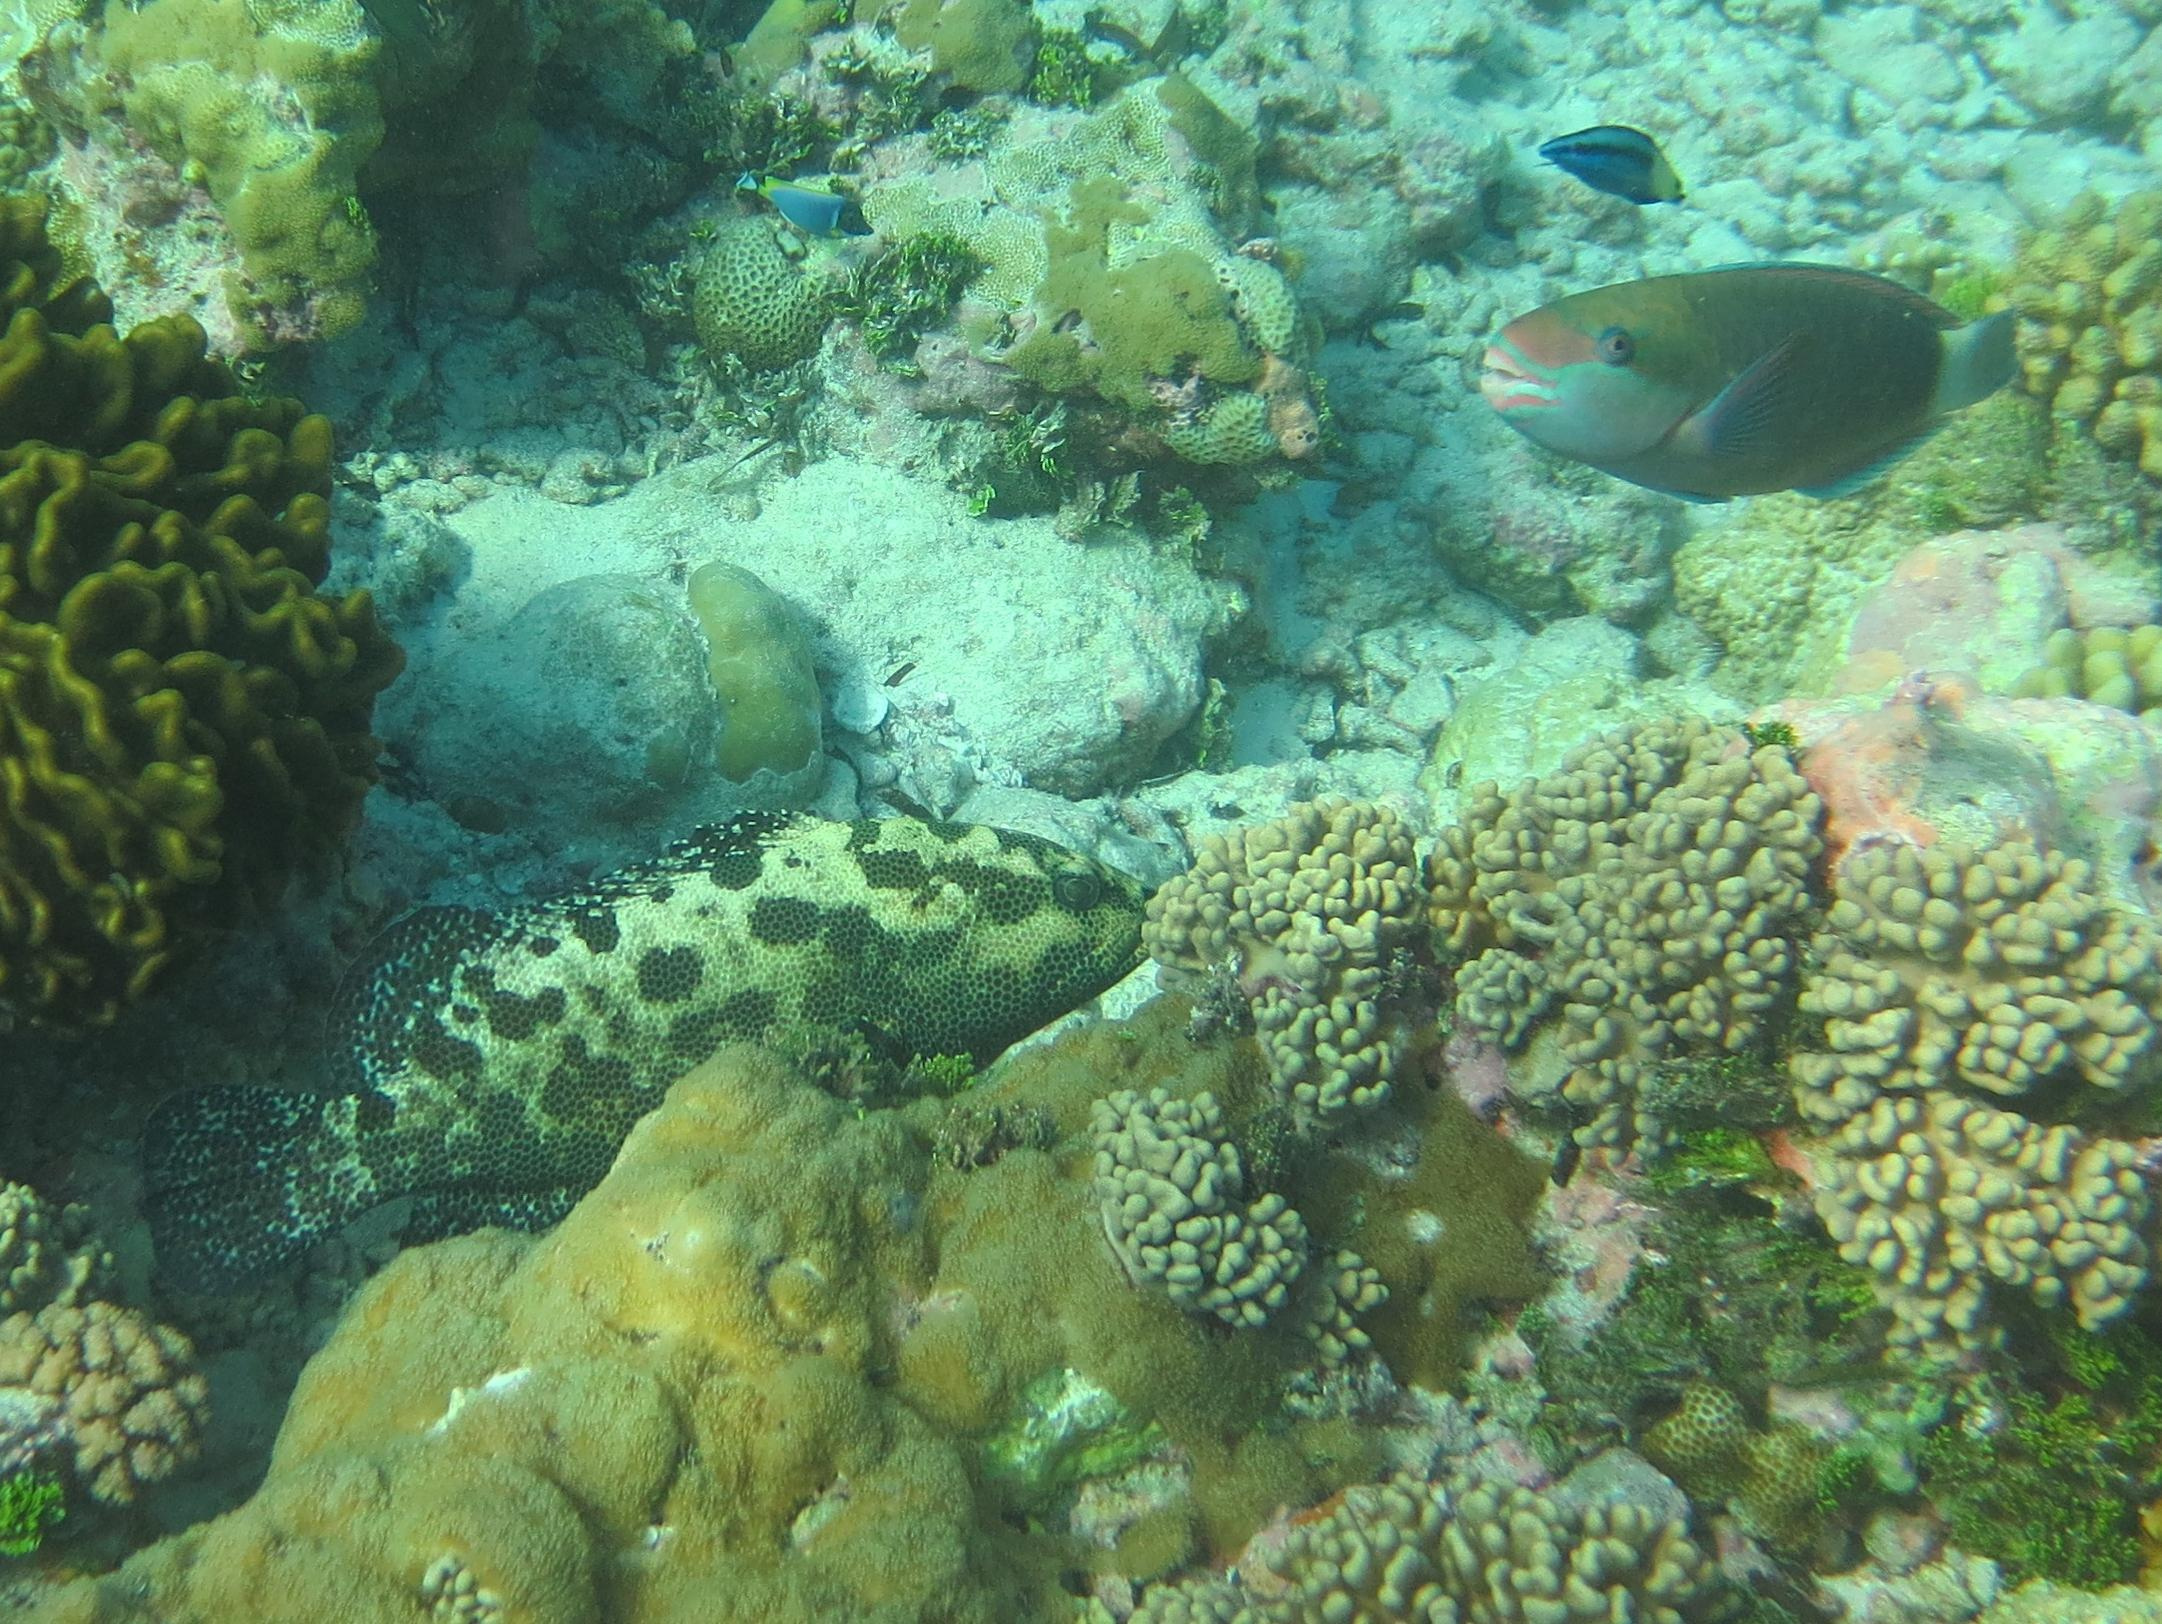Chlorurus sordidus: (1398, 246, 2060, 542)
